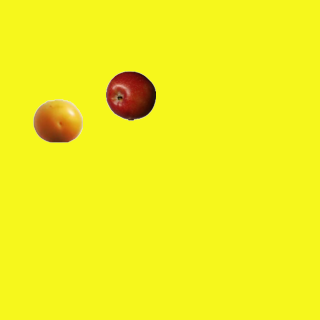Apple Braeburn: (105, 70, 155, 120)
Cherry Wax Yellow: (32, 95, 82, 145)
